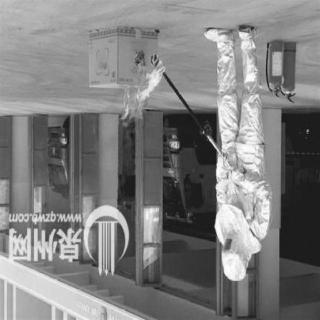other: (138, 116, 162, 290)
